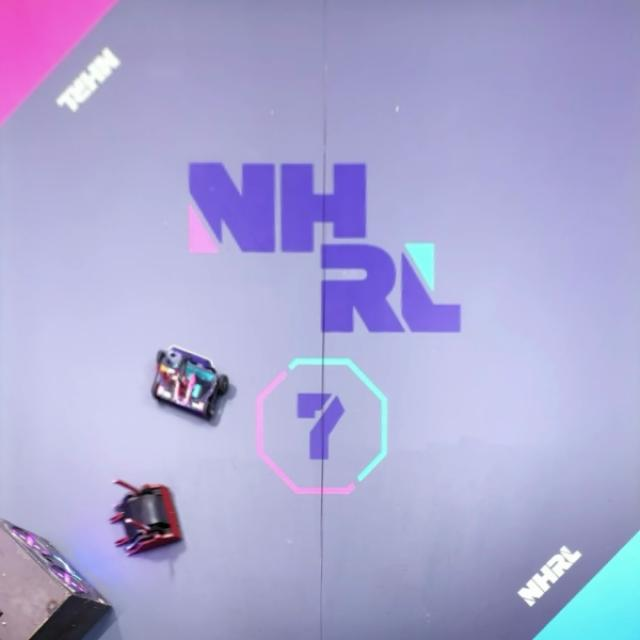housebot: (2, 523, 111, 640)
robot: (152, 348, 231, 424), (111, 479, 182, 557)
